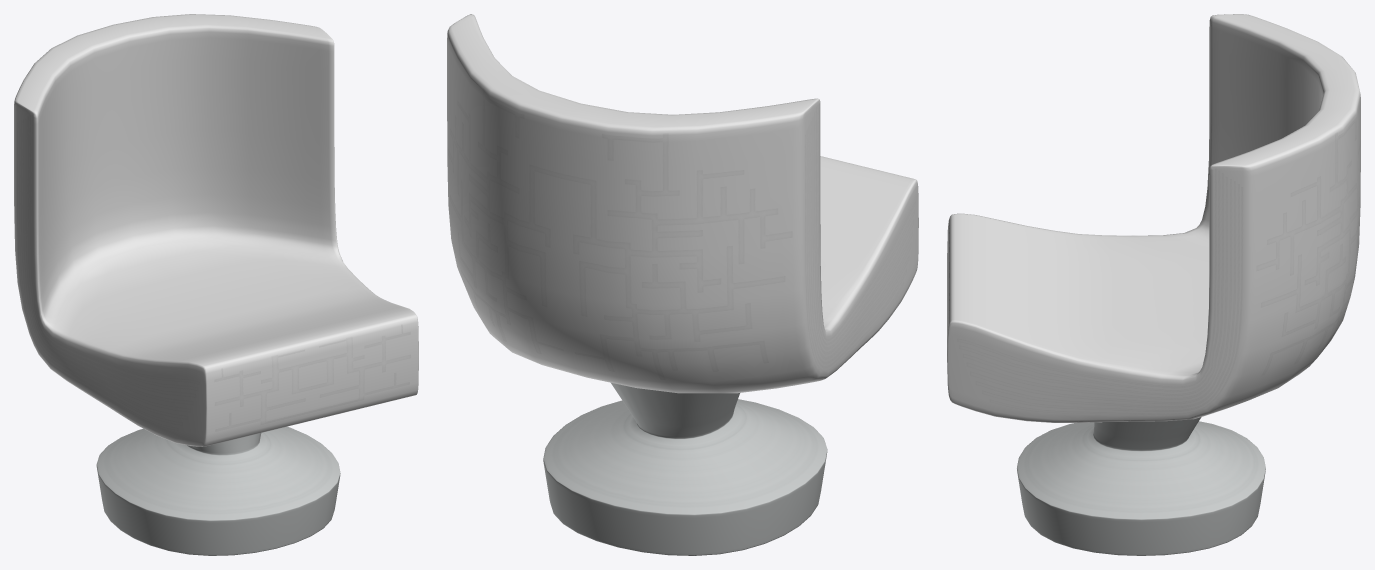
Rendered from Chair02.FBX.
3 renders of one model, left to right at view 1: azimuth 30°, elevation 25°; view 2: azimuth 150°, elevation 25°; view 3: azimuth 270°, elevation 25°, orthographic. The views are drawn at different scales.
Parts seen in each view (by area): view 1: Chair02; view 2: Chair02; view 3: Chair02.
Boxes of the visible parts, x1,y1,x2,y2 form: Chair02: (14, 14, 418, 555); Chair02: (447, 14, 918, 555); Chair02: (947, 14, 1360, 555).
Size of what is drawn, in the model's own units: 0.8003 by 1.02 by 0.9164.
